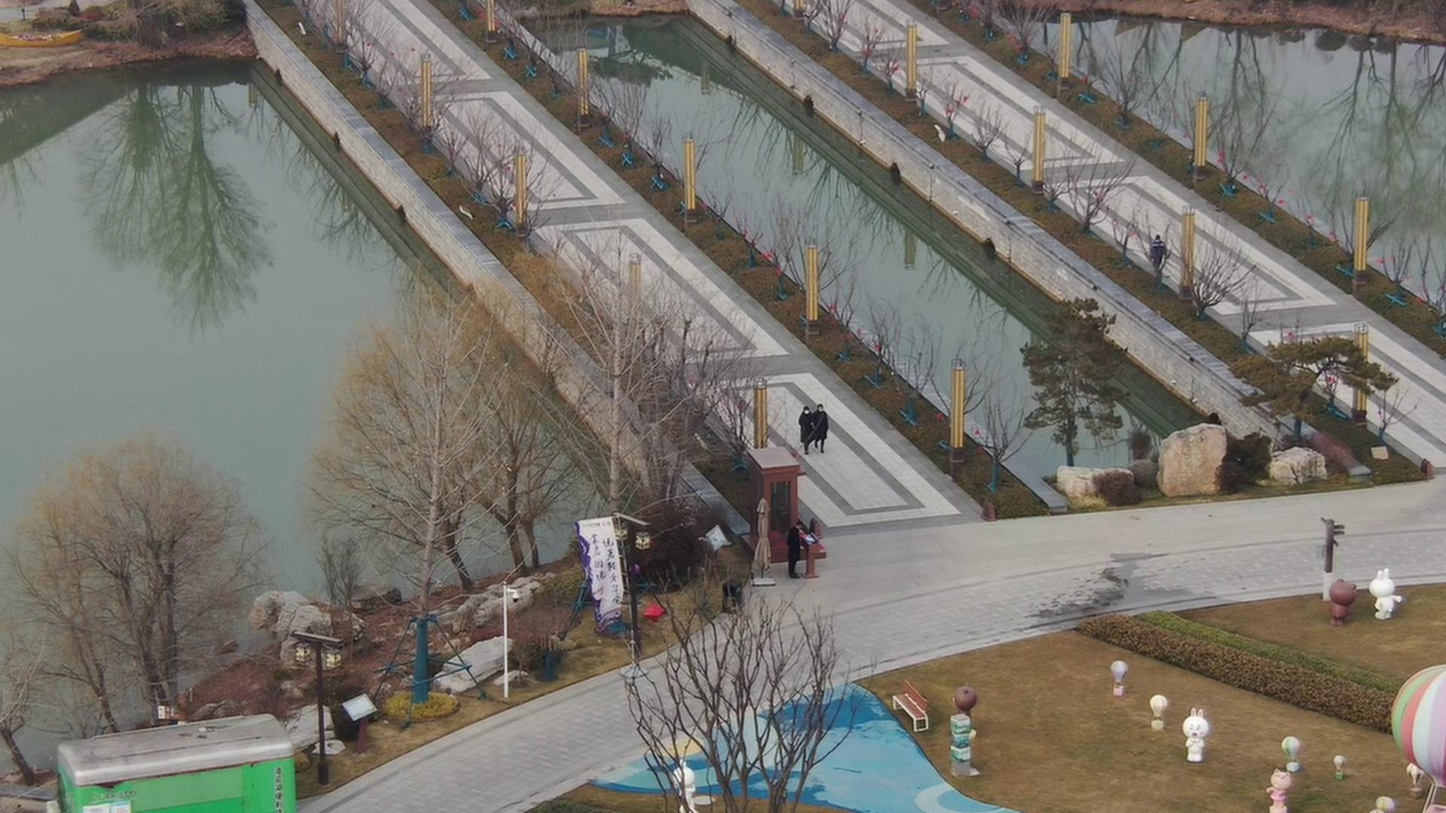class_2: (795, 402, 828, 456)
human: (775, 516, 804, 585)
